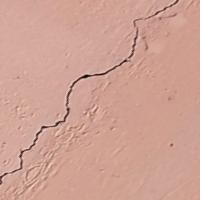crack: (0, 2, 179, 180)
